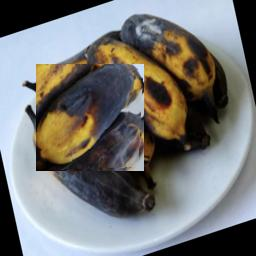Banana Rotten: (36, 64, 144, 171)
